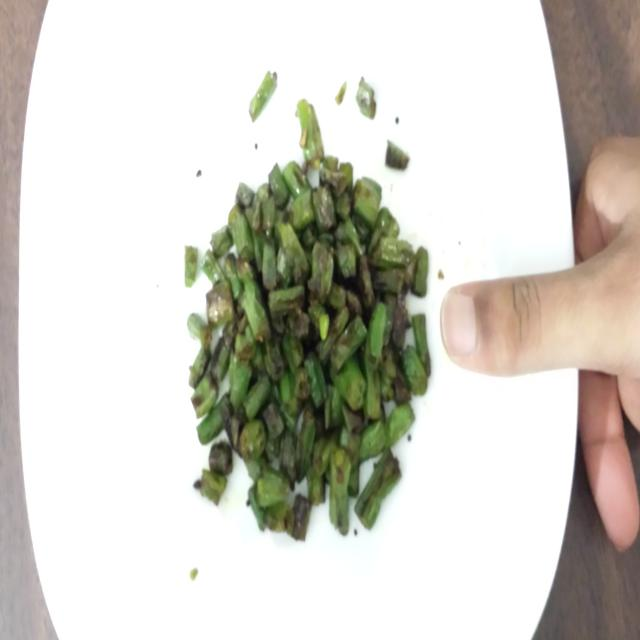bean: (176, 48, 438, 591)
